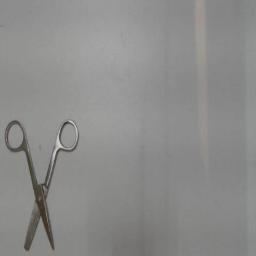Dressing Scissors: (2, 112, 82, 256)
